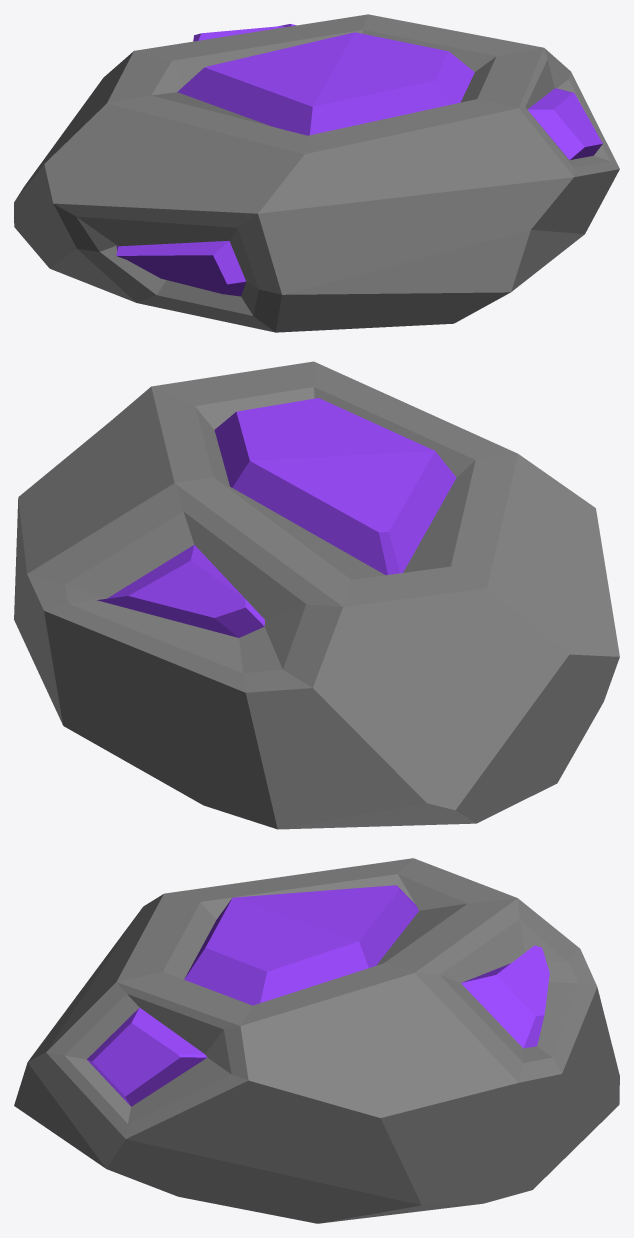
File: MineralNode_13_C.fbx
The picture shows the model from 3 angles, top to bottom: view 1: azimuth 30°, elevation 25°; view 2: azimuth 150°, elevation 25°; view 3: azimuth 270°, elevation 25°; orthographic projection. The views are drawn at different scales.
Visible parts, largest first — view 1: MineralNode_13_C; view 2: MineralNode_13_C; view 3: MineralNode_13_C.
Part boxes in pixels (x1=…): MineralNode_13_C: x1=14, y1=14, x2=619, y2=332; MineralNode_13_C: x1=14, y1=361, x2=619, y2=829; MineralNode_13_C: x1=14, y1=858, x2=619, y2=1223.
Bounding box in the file's own units: 80.35 × 29.64 × 77.08.
